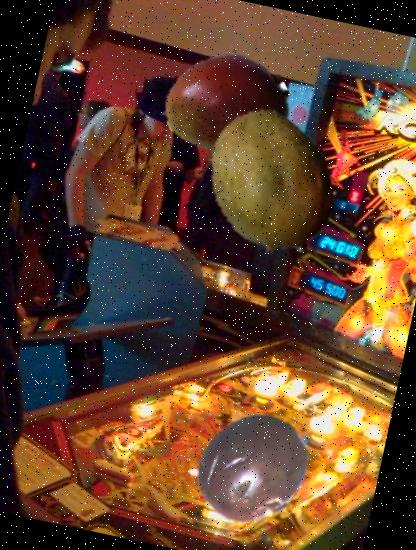Mango: (154, 34, 301, 181)
Papaya: (184, 92, 361, 270)
Passion: (181, 400, 322, 540)
